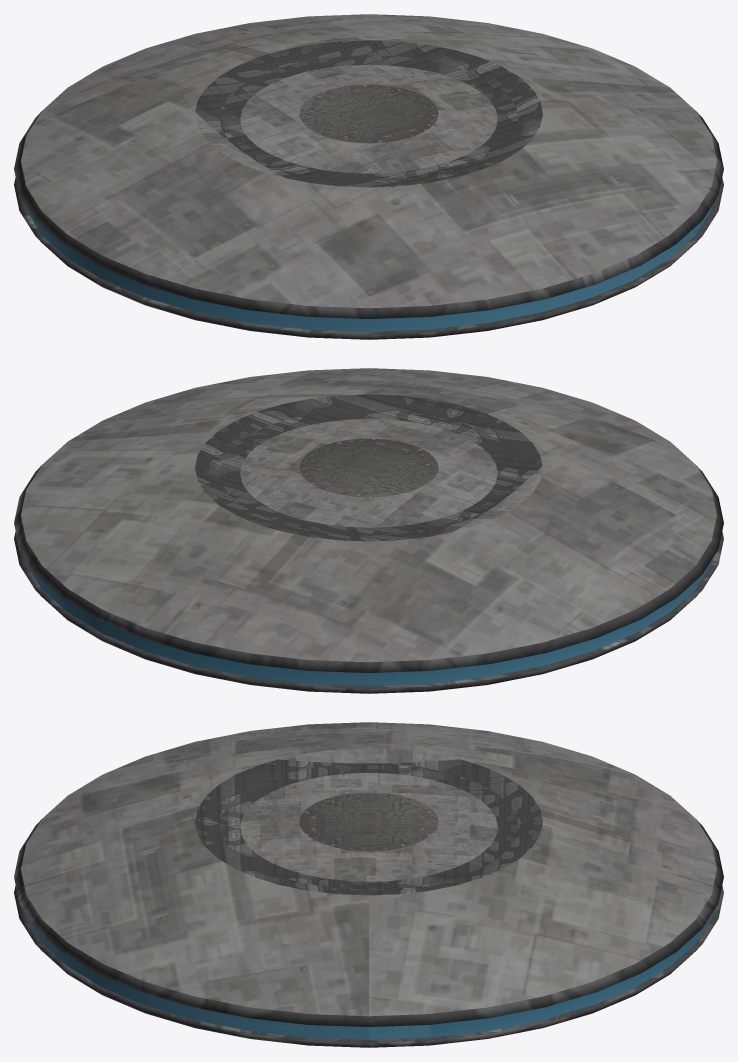
File: Coupole Supérieur.FBX
3 renders of one model, top to bottom at view 1: azimuth 30°, elevation 25°; view 2: azimuth 150°, elevation 25°; view 3: azimuth 270°, elevation 25°, orthographic.
Parts seen in each view (by area): view 1: Cylindre; view 2: Cylindre; view 3: Cylindre.
Boxes of the visible parts, bbox=[...] form: Cylindre: bbox=[14, 14, 723, 339]; Cylindre: bbox=[14, 368, 723, 693]; Cylindre: bbox=[14, 722, 723, 1047].
Bounding box in the file's own units: 25910 × 5080 × 25910.
